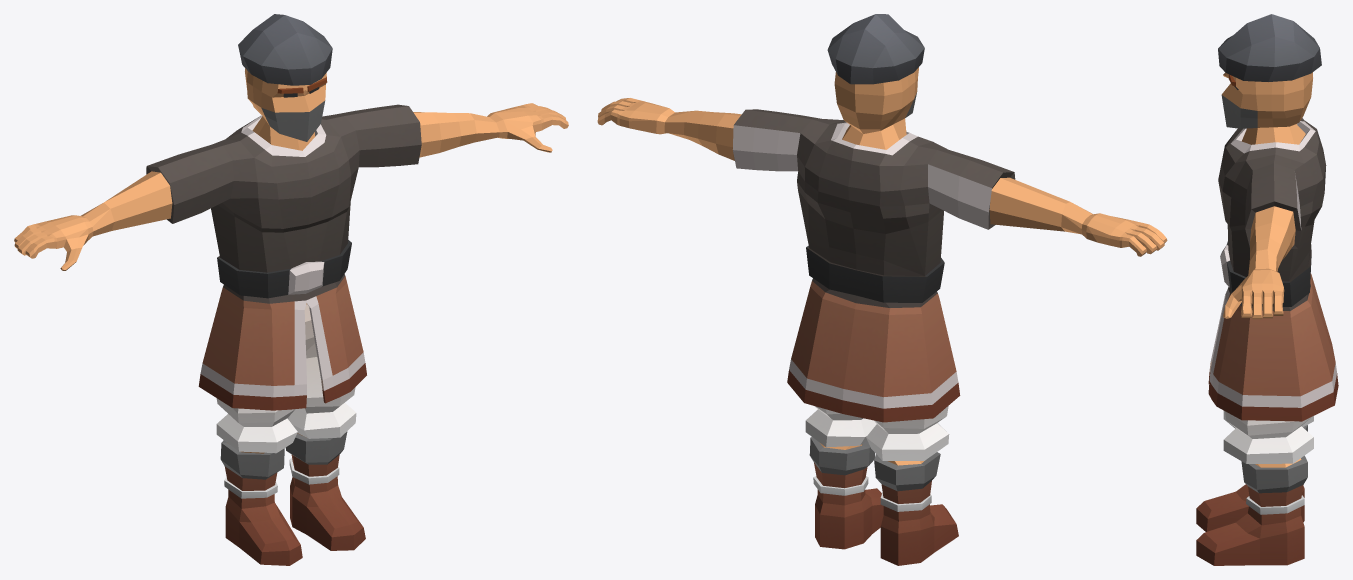
Rendered from Knight.fbx.
3 views of the same model, side by side, from view 1: azimuth 30°, elevation 25°; view 2: azimuth 150°, elevation 25°; view 3: azimuth 270°, elevation 25° (orthographic). The views are drawn at different scales.
Visible parts, largest first — view 1: Equipment_body; view 2: Equipment_body; view 3: Equipment_body.
Part boxes in pixels (x1,y1,x2,y2): Equipment_body: [14, 14, 568, 565]; Equipment_body: [597, 14, 1167, 565]; Equipment_body: [1196, 14, 1338, 565].
Bounding box in the file's own units: 197 × 178 × 43.72.
